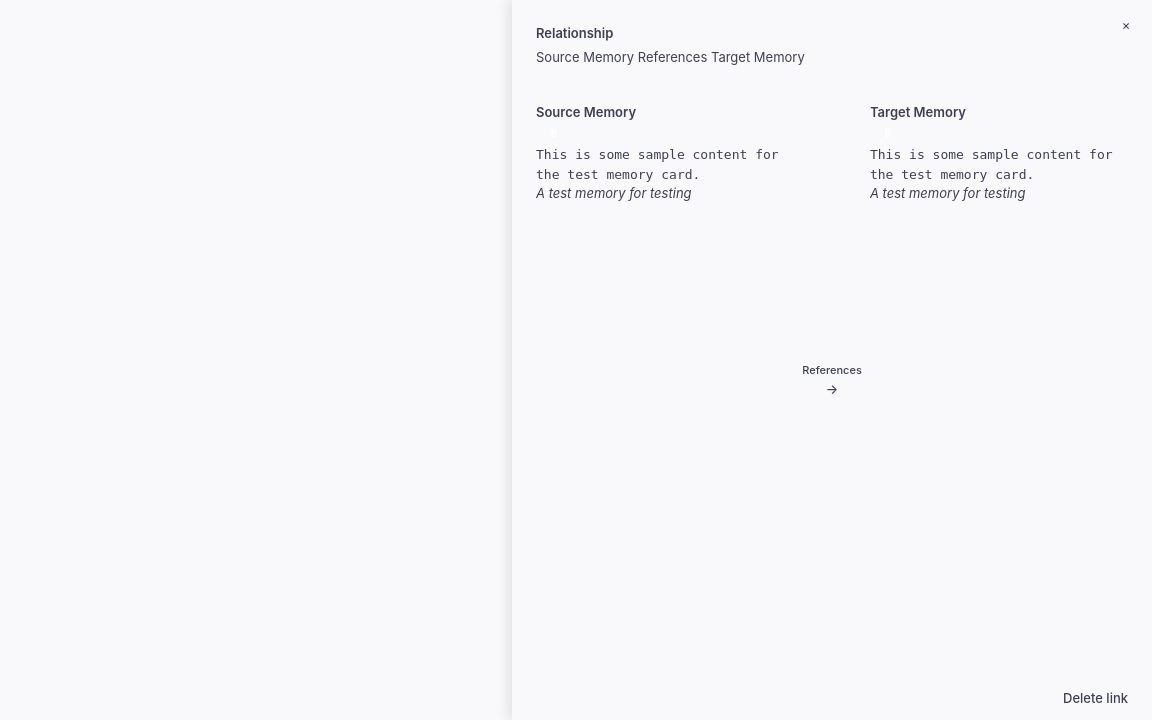
Test: RelationshipDrawer › page: links footer › Cancel button exits confirmation mode
The image size is (1152, 720).
Click the button "Delete link" at (1096, 698), box [1063, 688, 1128, 708]
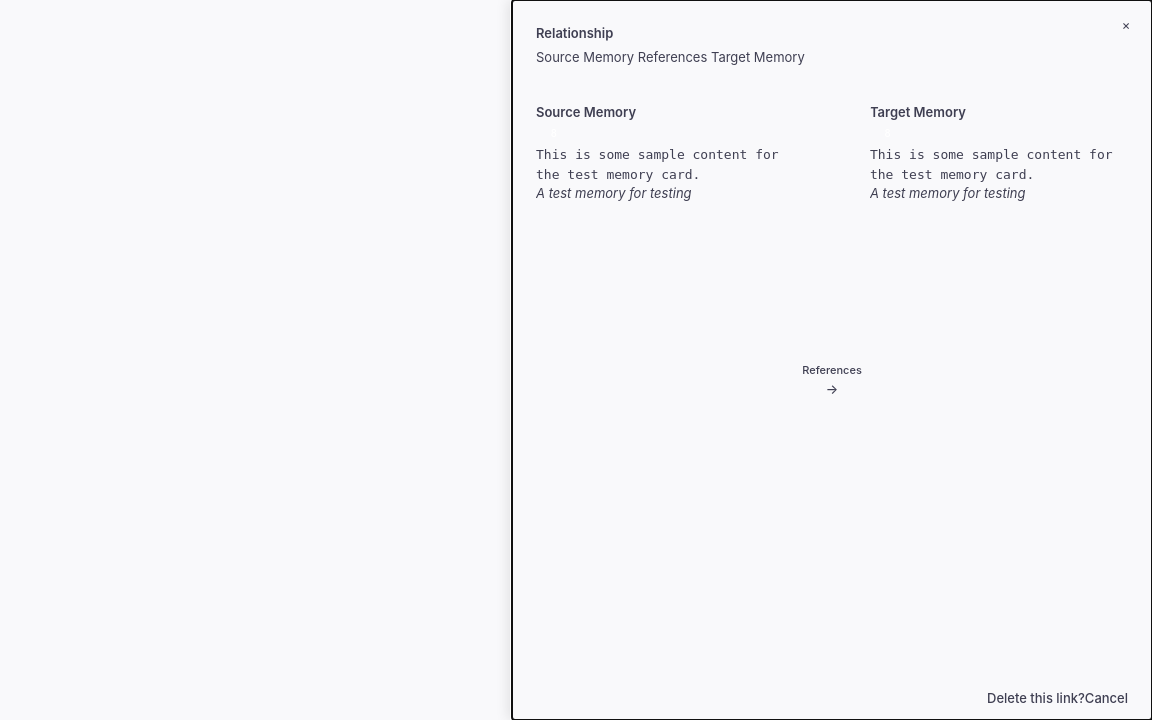
Expected: the button "Delete this link?" is shown, [987, 688, 1085, 708]
Click the button "Cancel" at (1106, 698), box [1085, 688, 1128, 708]
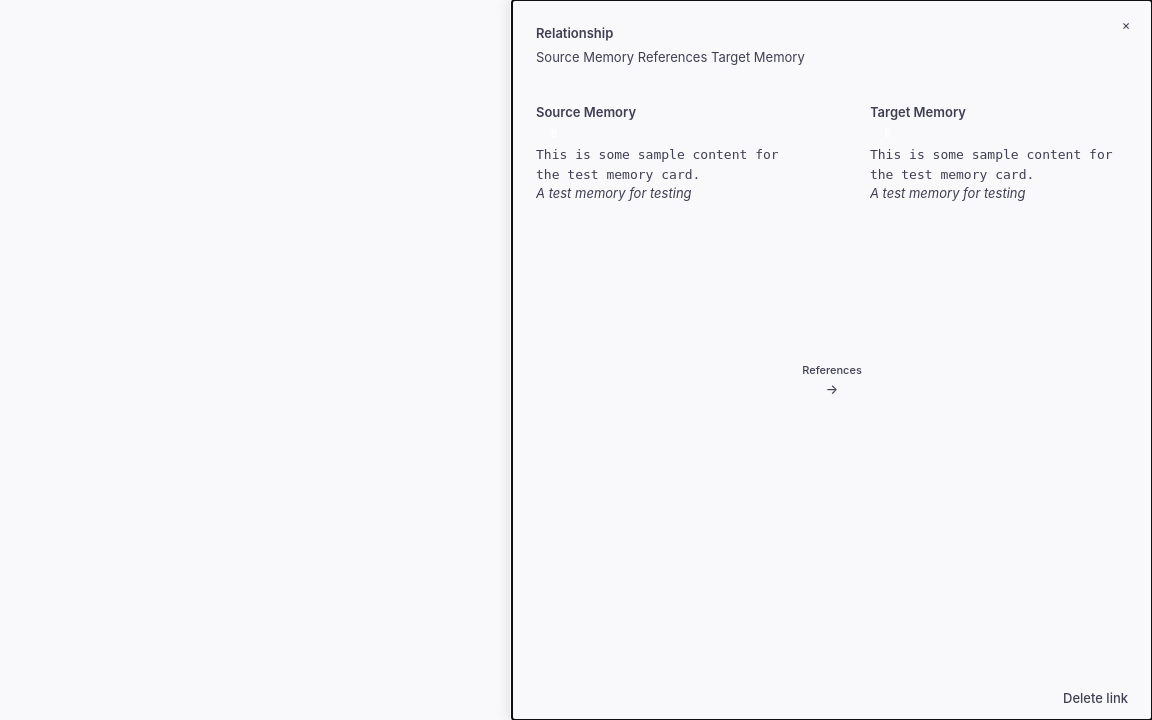
Expected: the button "Delete link" is shown, [1063, 688, 1128, 708]
